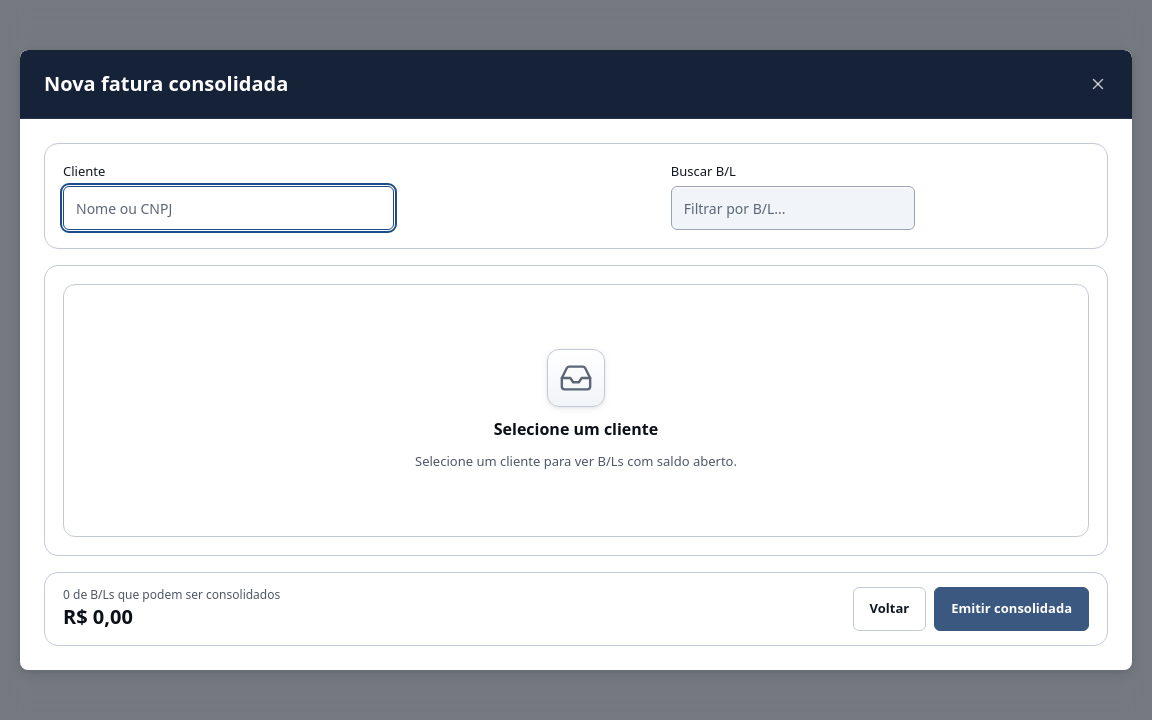
ConsolidatedInvoiceModal — seletor de cliente › falha na nova consulta dos B/Ls bloqueia a emissão com a seleção anterior
Type "gol" into the dropdown labelled "Cliente".
click(229, 208); type("gol")  # box [63, 186, 394, 230]
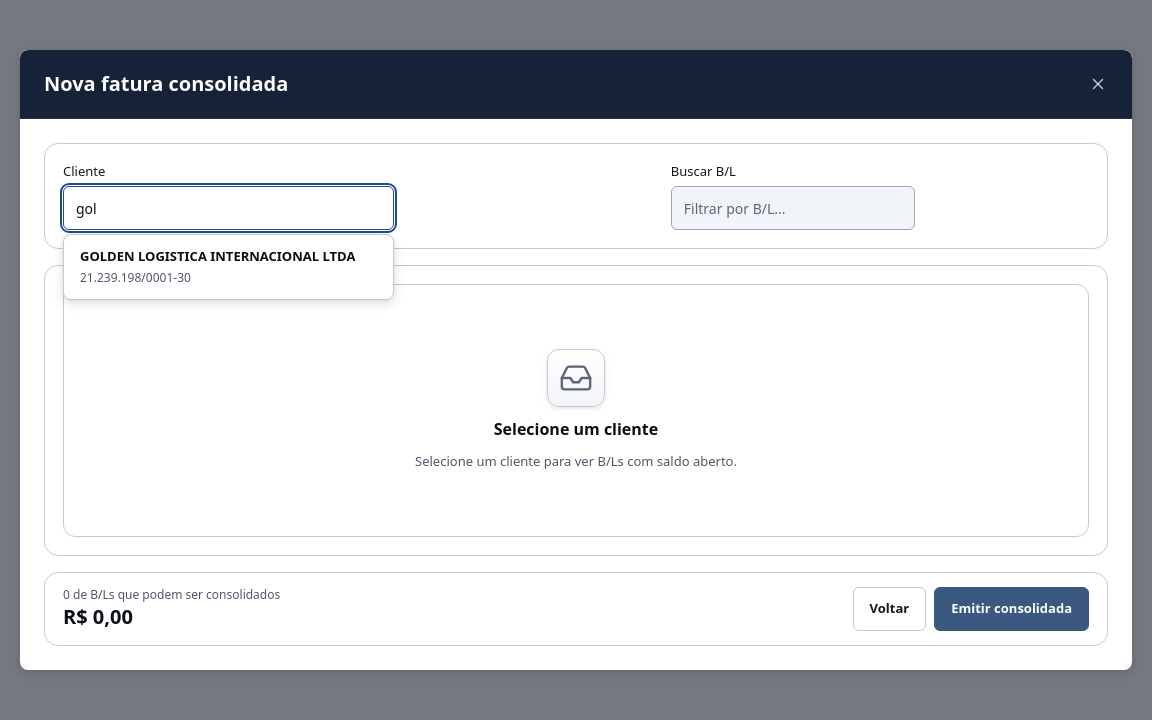
Click the text "GOLDEN LOGISTICA INTERNACIONAL LTDA".
click(229, 257)  # box [80, 247, 377, 267]
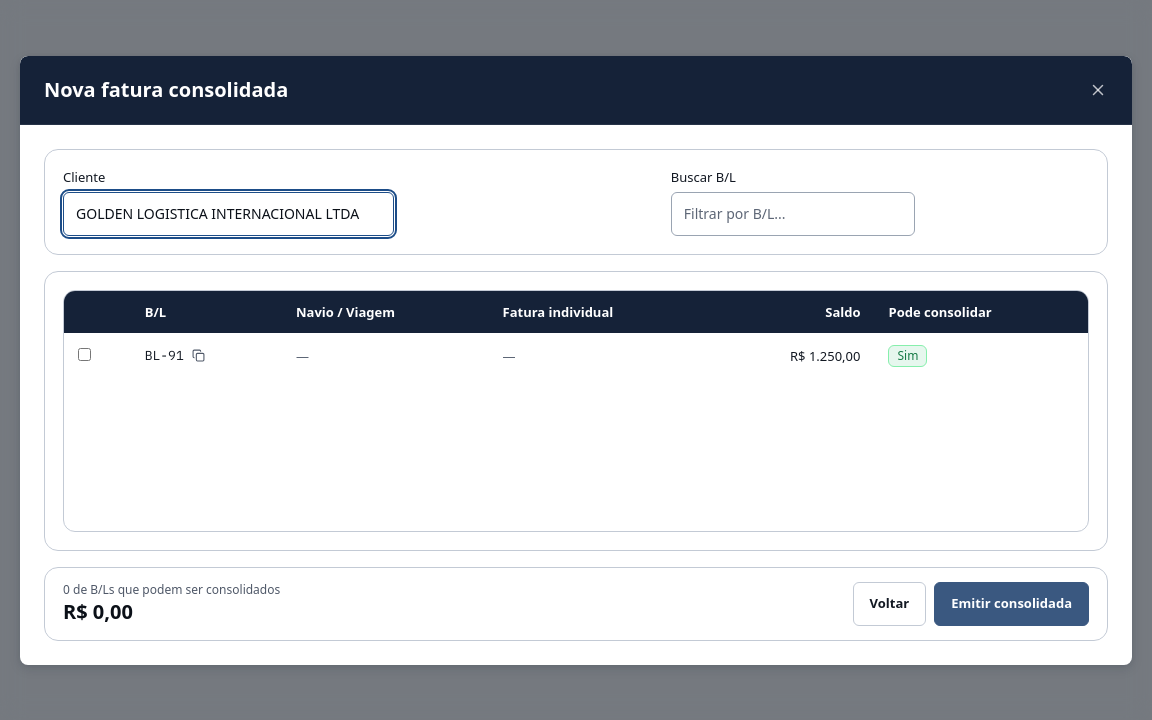
Click the checkbox named "Selecionar B/L BL-91".
click(84, 354)  # box [78, 348, 91, 360]
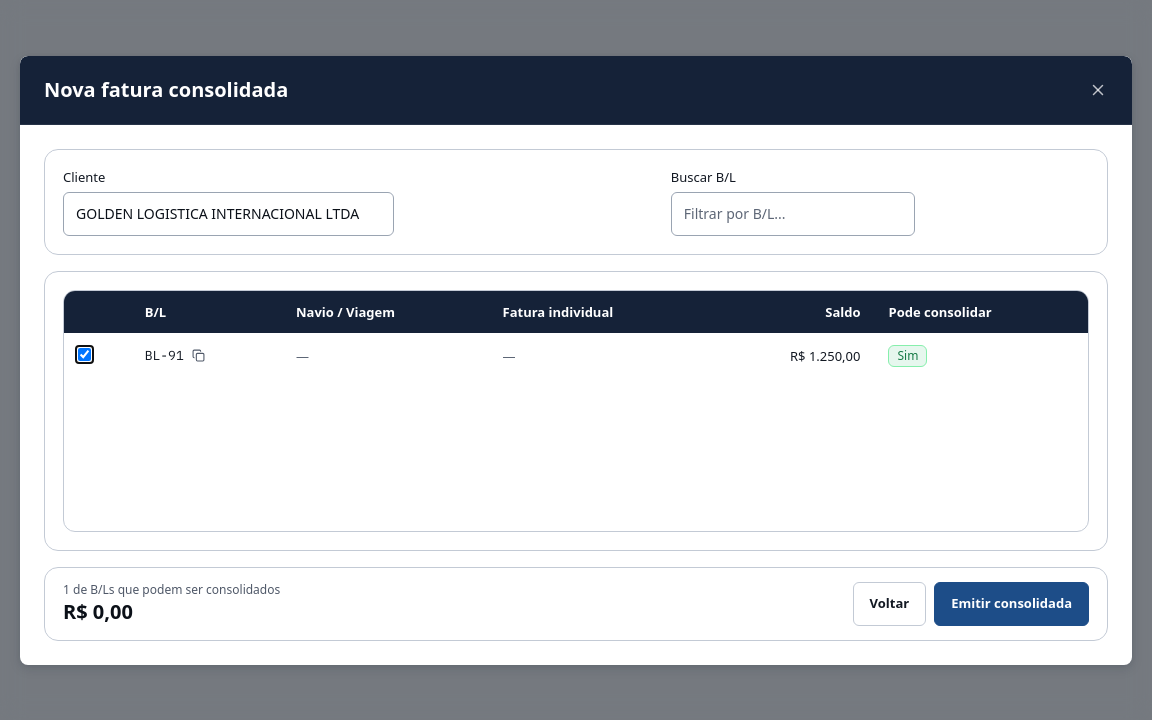
Type "B" into the field labelled "Buscar B/L".
click(793, 214); type("B")  # box [671, 192, 915, 236]
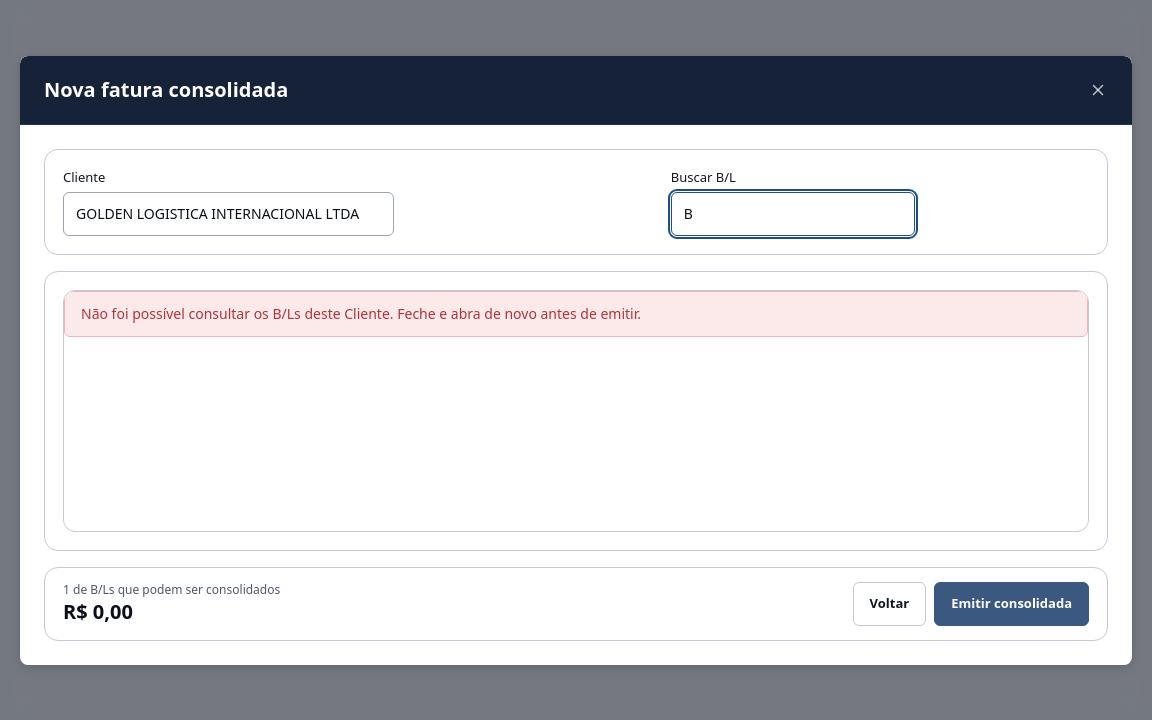
Now the button "Emitir consolidada" is disabled, box [934, 582, 1089, 626]
